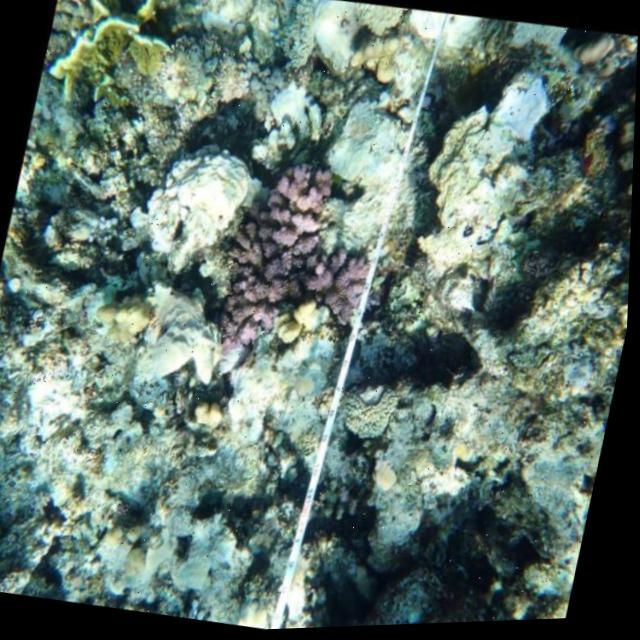Bleached Coral: (125, 110, 275, 285), (305, 82, 419, 237), (120, 17, 279, 125), (213, 323, 334, 437), (474, 59, 566, 170), (326, 364, 411, 455), (23, 346, 99, 444)
